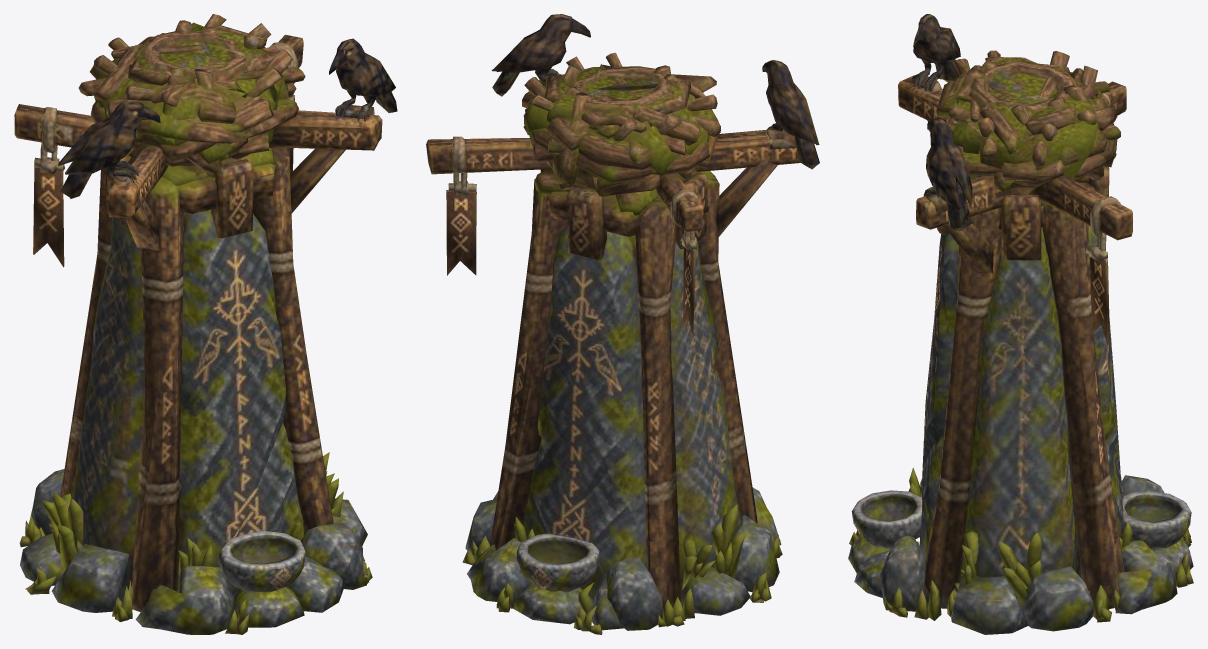
File: RavenNest.fbx
3 renders of one model, left to right at view 1: azimuth 30°, elevation 25°; view 2: azimuth 150°, elevation 25°; view 3: azimuth 270°, elevation 25°, orthographic. The views are drawn at different scales.
Parts seen in each view (by area): view 1: Mesh_0; view 2: Mesh_0; view 3: Mesh_0.
Part boxes in pixels (x1,y1,x2,y2): Mesh_0: (14,14,397,634); Mesh_0: (426,14,819,634); Mesh_0: (848,14,1193,634).
Bounding box in the file's own units: 65.19 × 95.07 × 60.16.
1 material, 1 textured.
